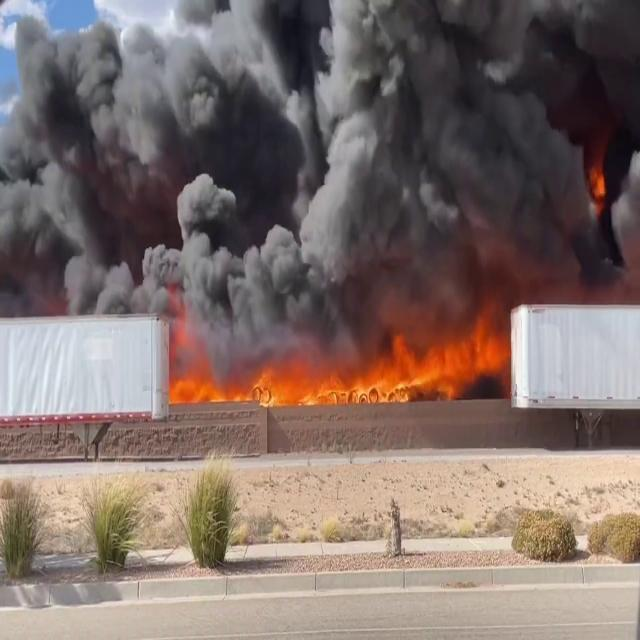Fire: (165, 310, 510, 406)
Smoke: (2, 0, 638, 355)
